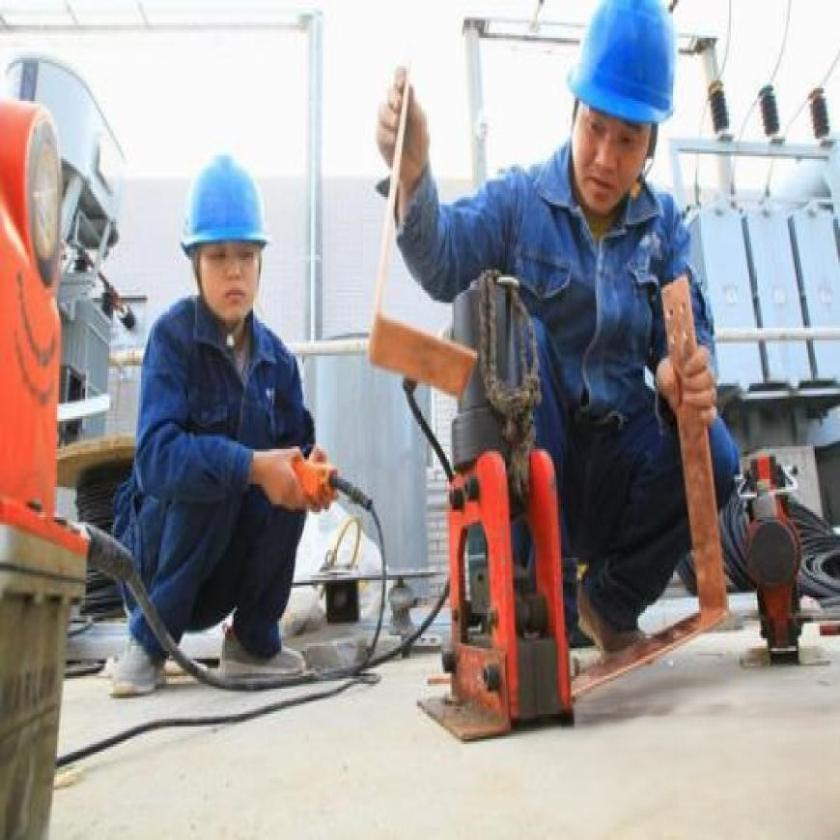Con_casco: (561, 0, 687, 218), (177, 150, 277, 330)
